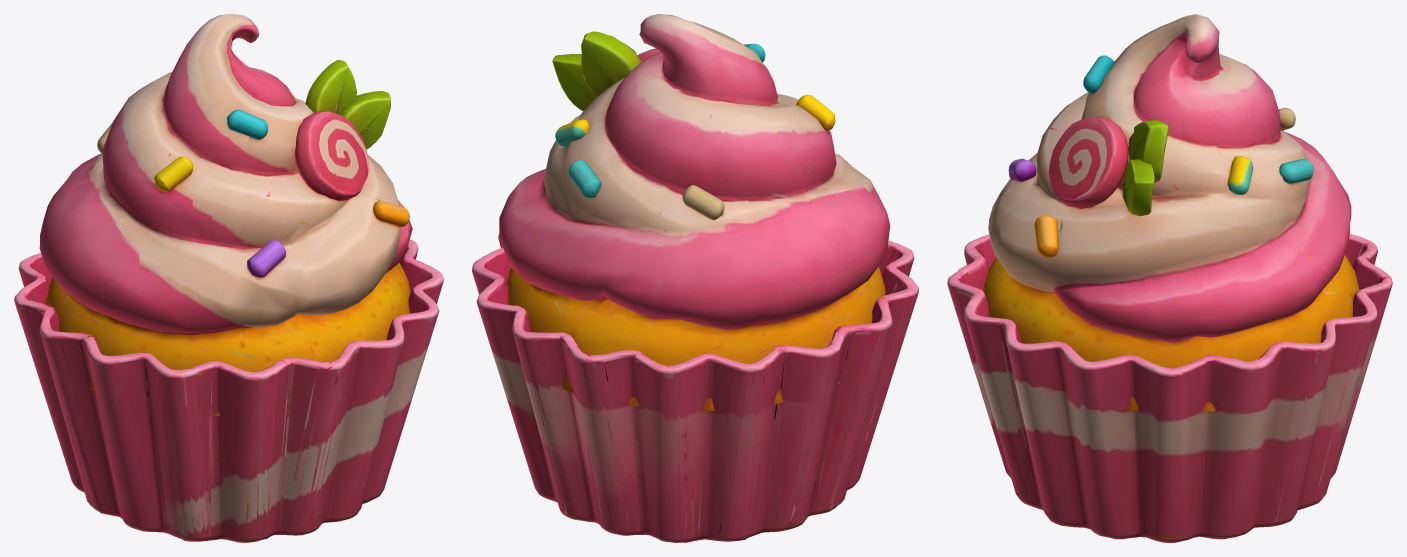
The model's file is cupcake_small.glb.
3 renders of one model, left to right at view 1: azimuth 30°, elevation 25°; view 2: azimuth 150°, elevation 25°; view 3: azimuth 270°, elevation 25°, orthographic. The views are drawn at different scales.
Size of what is drawn, in the model's own units: 0.8619 by 1 by 0.8661.
1 material, 1 textured.
